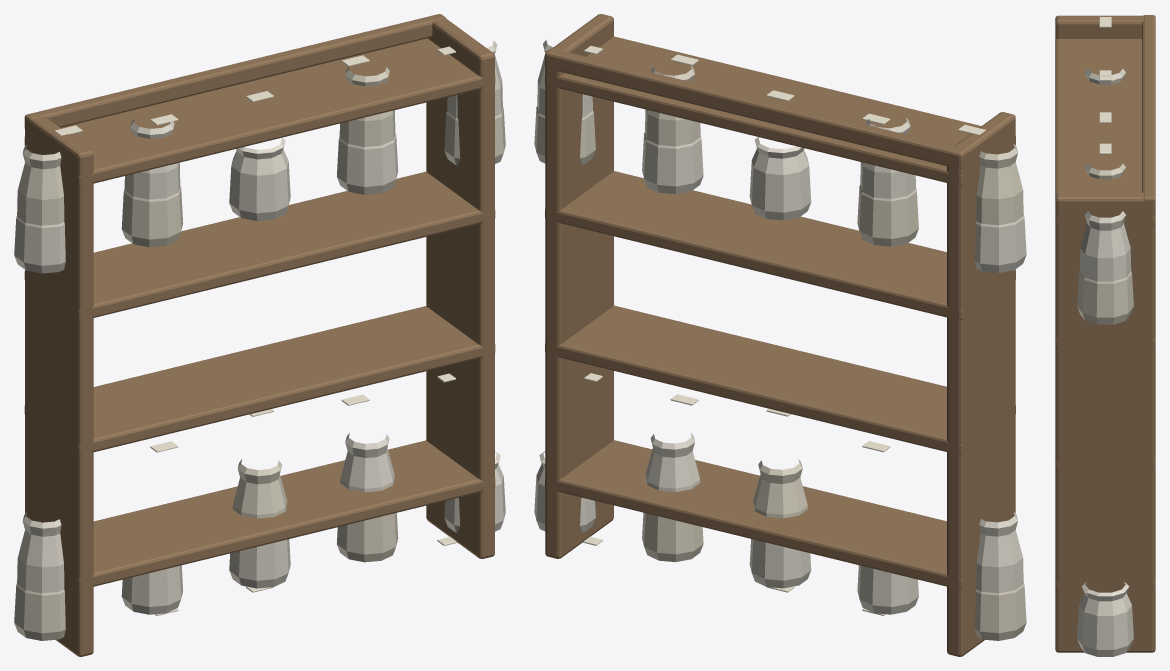
Rendered from apothecary_jar_shelf.glb.
3 renders of one model, left to right at view 1: azimuth 30°, elevation 25°; view 2: azimuth 150°, elevation 25°; view 3: azimuth 270°, elevation 25°, orthographic. The views are drawn at different scales.
Parts seen in each view (by area): view 1: 285-apothecary-jar-shelf/0, 285-apothecary-jar-shelf/1, 285-apothecary-jar-shelf/3, 285-apothecary-jar-shelf/2; view 2: 285-apothecary-jar-shelf/0, 285-apothecary-jar-shelf/1, 285-apothecary-jar-shelf/3, 285-apothecary-jar-shelf/2; view 3: 285-apothecary-jar-shelf/0, 285-apothecary-jar-shelf/1, 285-apothecary-jar-shelf/3, 285-apothecary-jar-shelf/2.
Boxes of the visible parts, x1,y1,x2,y2 form: 285-apothecary-jar-shelf/0: [24, 14, 495, 656]; 285-apothecary-jar-shelf/1: [14, 41, 505, 614]; 285-apothecary-jar-shelf/3: [14, 66, 505, 640]; 285-apothecary-jar-shelf/2: [55, 46, 457, 615]; 285-apothecary-jar-shelf/0: [545, 14, 1015, 656]; 285-apothecary-jar-shelf/1: [534, 40, 1026, 614]; 285-apothecary-jar-shelf/3: [534, 66, 1026, 640]; 285-apothecary-jar-shelf/2: [583, 46, 985, 615]; 285-apothecary-jar-shelf/0: [1055, 15, 1155, 652]; 285-apothecary-jar-shelf/1: [1077, 69, 1133, 656]; 285-apothecary-jar-shelf/3: [1077, 163, 1133, 324]; 285-apothecary-jar-shelf/2: [1099, 17, 1111, 154].
Bounding box in the file's own units: 1 × 1 × 0.1998.
